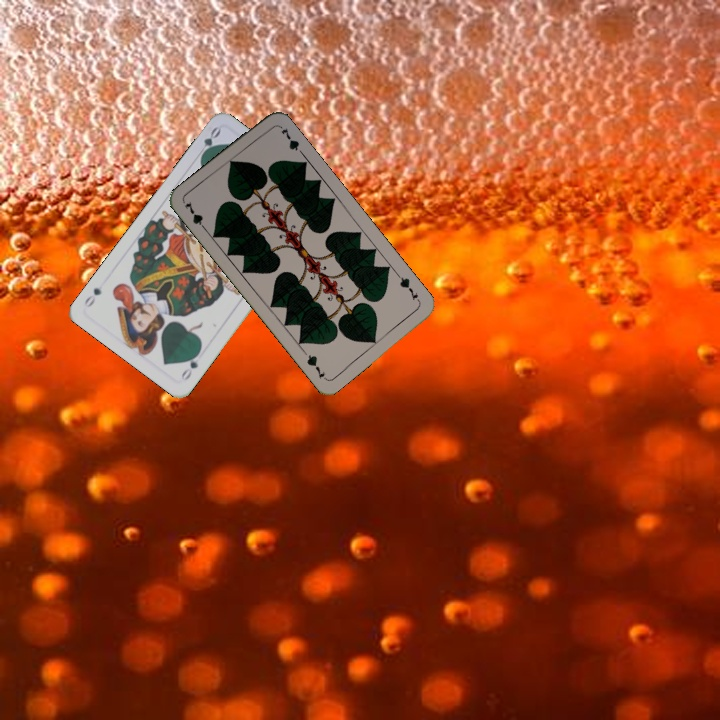G7: (180, 197, 210, 234), (394, 270, 423, 305)
GO: (196, 123, 223, 161), (177, 346, 203, 383)
